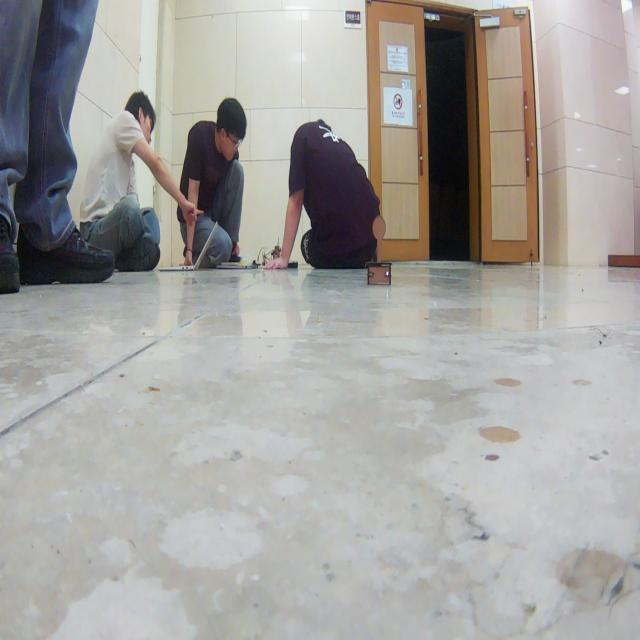target: (367, 215, 392, 285)
